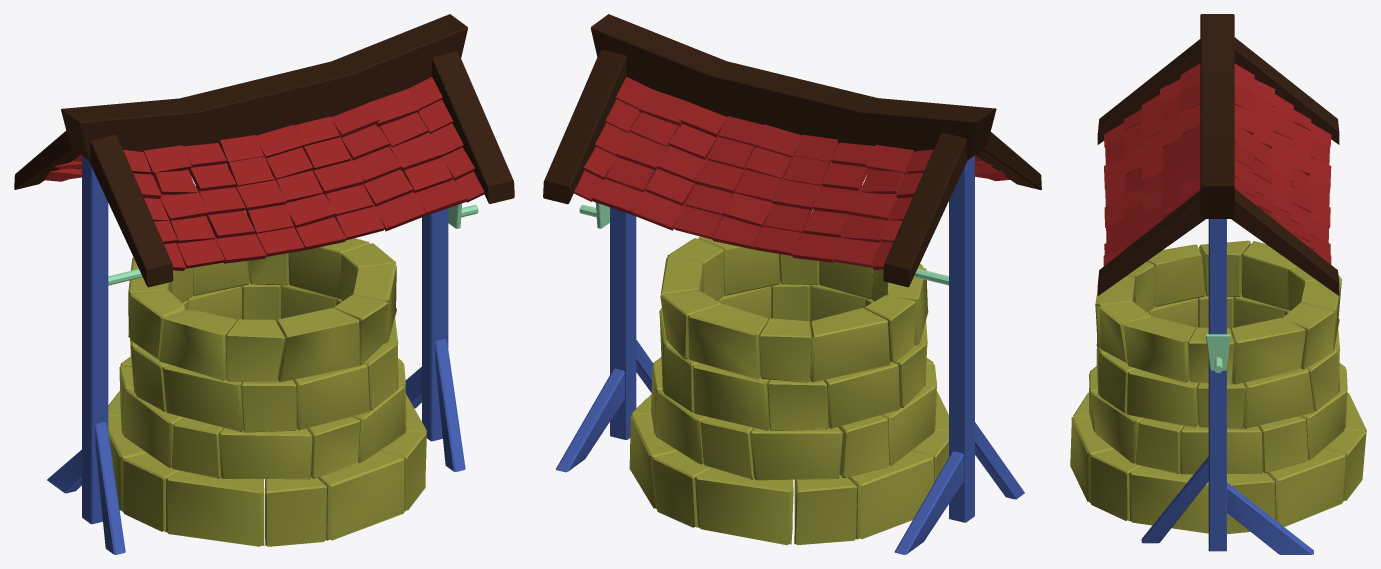
File: Puits_LowPoly.FBX
The picture shows the model from 3 angles, left to right: view 1: azimuth 30°, elevation 25°; view 2: azimuth 150°, elevation 25°; view 3: azimuth 270°, elevation 25°; orthographic projection. The views are drawn at different scales.
Visible parts, largest first — view 1: LE PUIT PIERRE, reste, Box018, Box017, Box015; view 2: LE PUIT PIERRE, reste, Box018, Box017, Box015; view 3: LE PUIT PIERRE, reste, Box018, Box017, Box015.
Boxes of the visible parts, x1,y1,x2,y2 form: LE PUIT PIERRE: (108,238,426,546); reste: (45,77,484,270); Box018: (14,14,514,287); Box017: (47,155,465,554); Box015: (108,203,478,285); LE PUIT PIERRE: (629,236,948,545); reste: (574,76,1009,269); Box018: (543,14,1041,287); Box017: (556,155,1024,554); Box015: (579,202,948,285); LE PUIT PIERRE: (1070,240,1366,534); reste: (1103,63,1331,266); Box018: (1097,14,1339,295); Box017: (1141,219,1313,554); Box015: (1206,334,1230,372).
Size of the model in its own units: 274 by 264 by 191.
